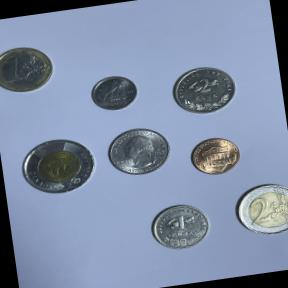coin: (15, 132, 102, 200), (166, 60, 244, 120), (102, 122, 179, 180), (229, 178, 288, 241), (0, 40, 58, 99), (184, 130, 246, 180), (86, 71, 144, 115)
